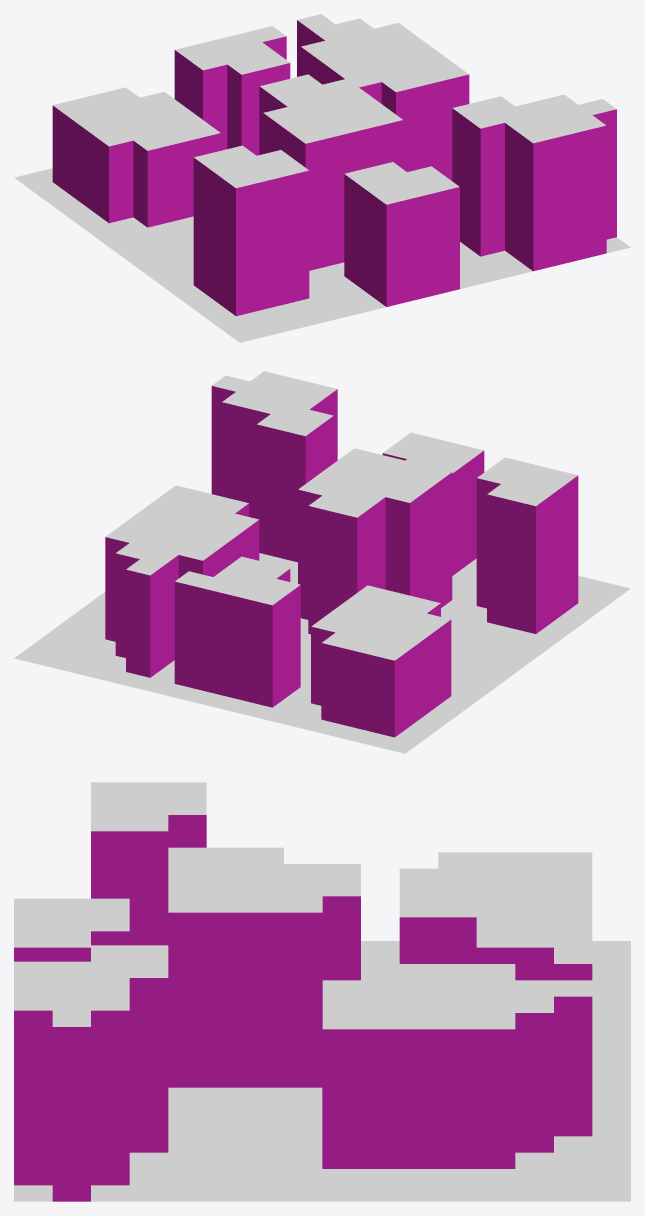
Rendered from Maze2.fbx.
3 renders of one model, top to bottom at view 1: azimuth 30°, elevation 25°; view 2: azimuth 150°, elevation 25°; view 3: azimuth 270°, elevation 25°, orthographic. The views are drawn at different scales.
Parts seen in each view (by area): view 1: Maze2; view 2: Maze2; view 3: Maze2.
Part boxes in pixels (box(x1,y1,x2,y2)): Maze2: box(14, 14, 630, 342); Maze2: box(14, 371, 630, 753); Maze2: box(14, 782, 630, 1201).
Bounding box in the file's own units: 1600 × 500 × 1600.
